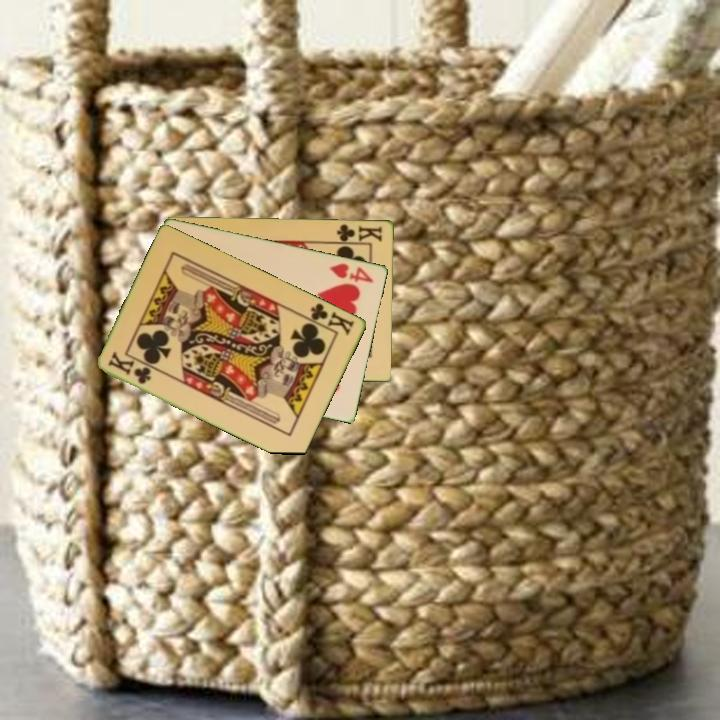4h: (327, 259, 377, 286)
Kc: (302, 299, 358, 338), (105, 348, 154, 387), (331, 221, 385, 245)
